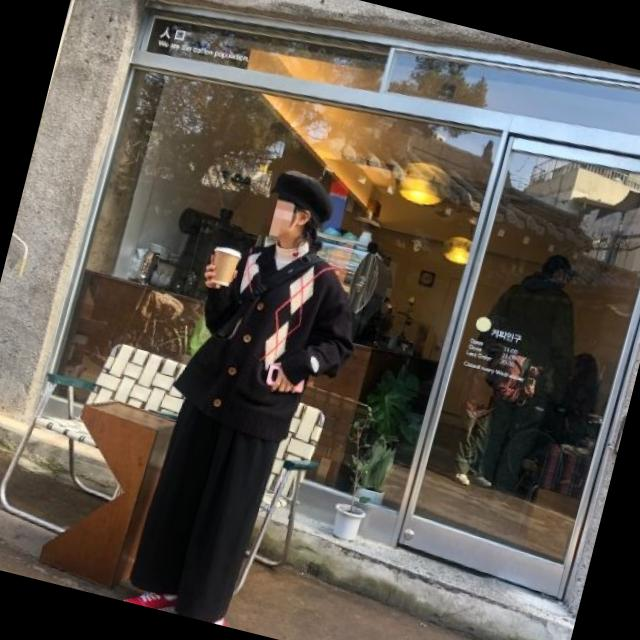cardigan: (164, 230, 370, 446)
cottonpants: (125, 394, 284, 623)
